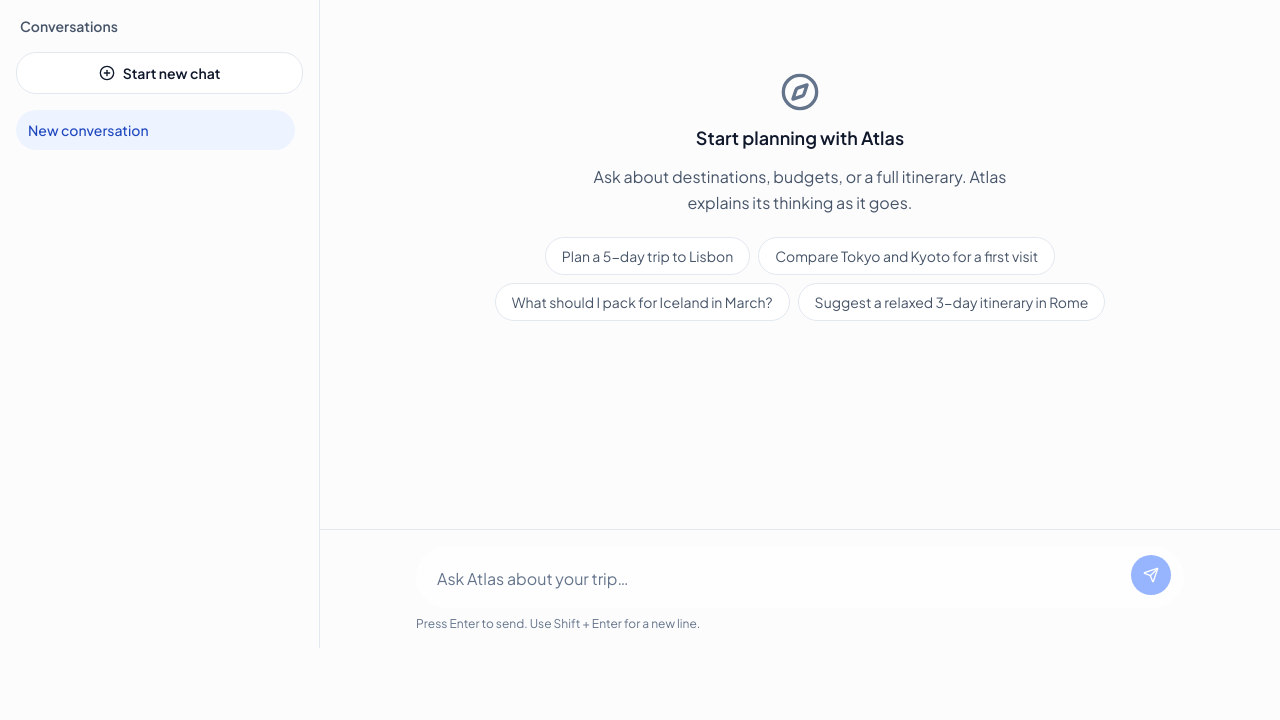
Test: ChatPageContent › Start new chat resets to the empty state
Click the button "Plan a 5-day trip to Lisbon" at (648, 256), box [545, 237, 750, 275]
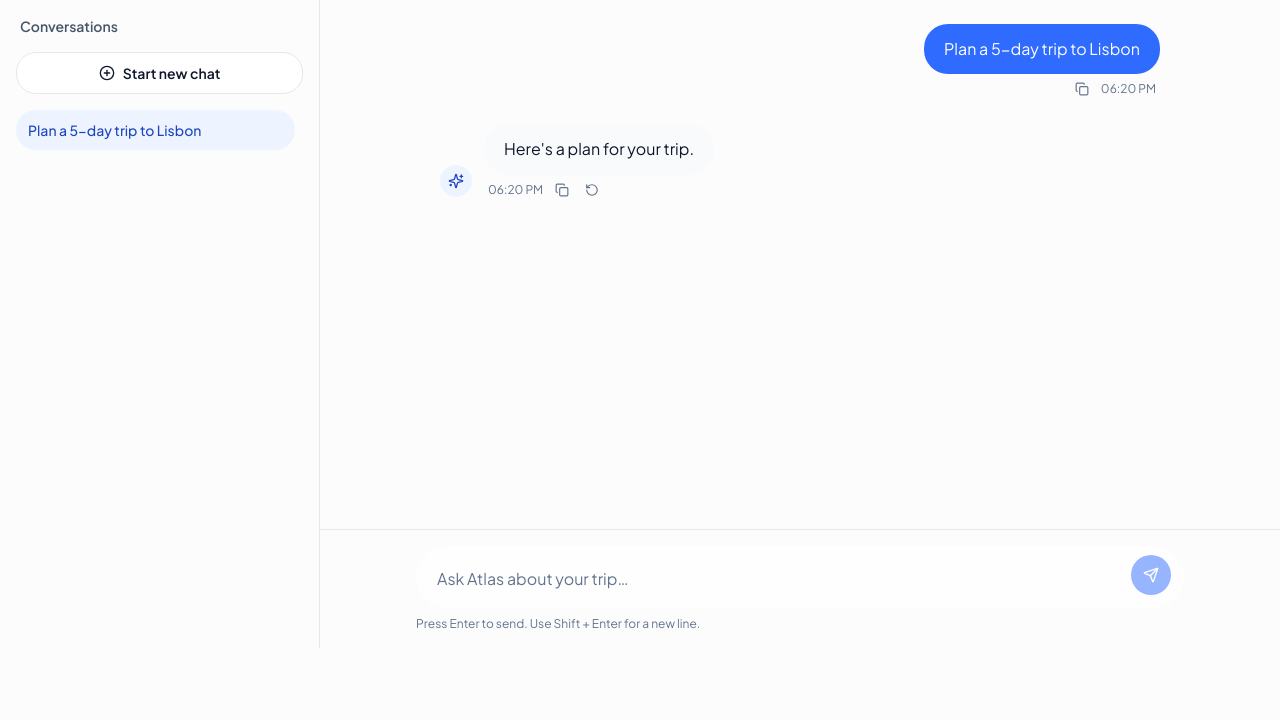
Expected: the text "Start planning with Atlas" is gone
Click the button "Start new chat" at (160, 73), box [16, 52, 303, 94]
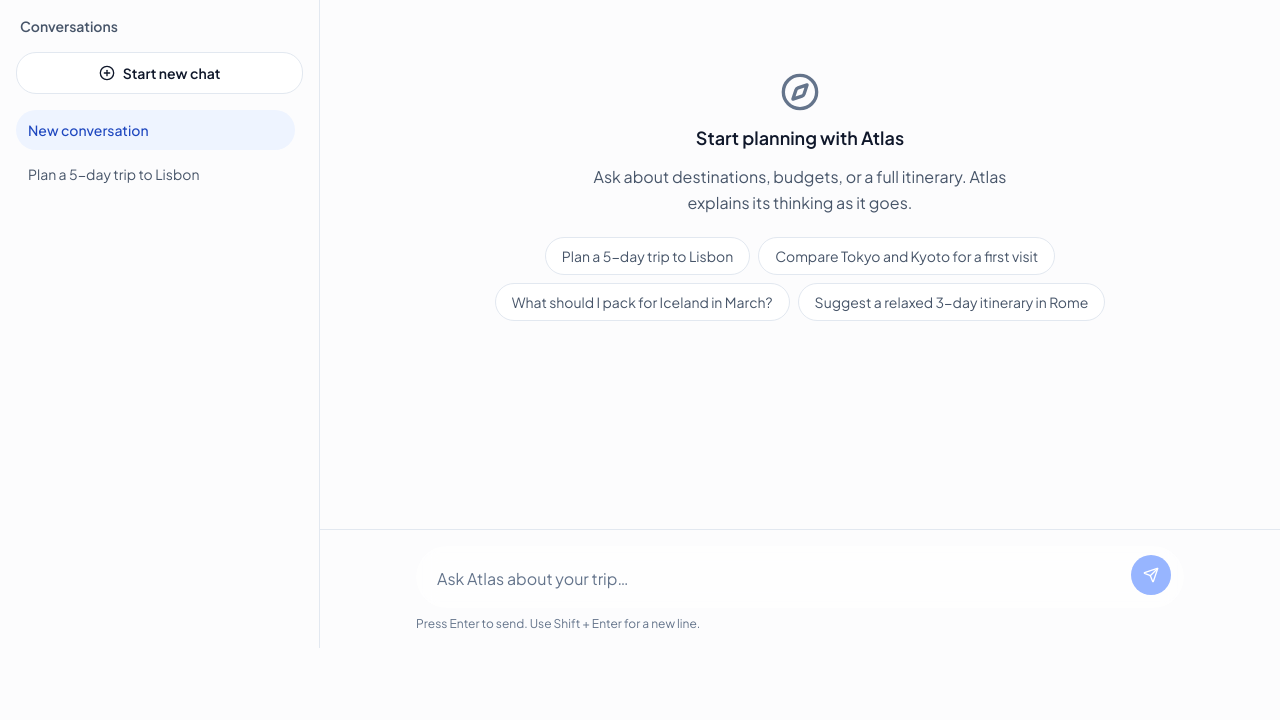
Expected: the text "Start planning with Atlas" is shown, [696, 124, 904, 152]
